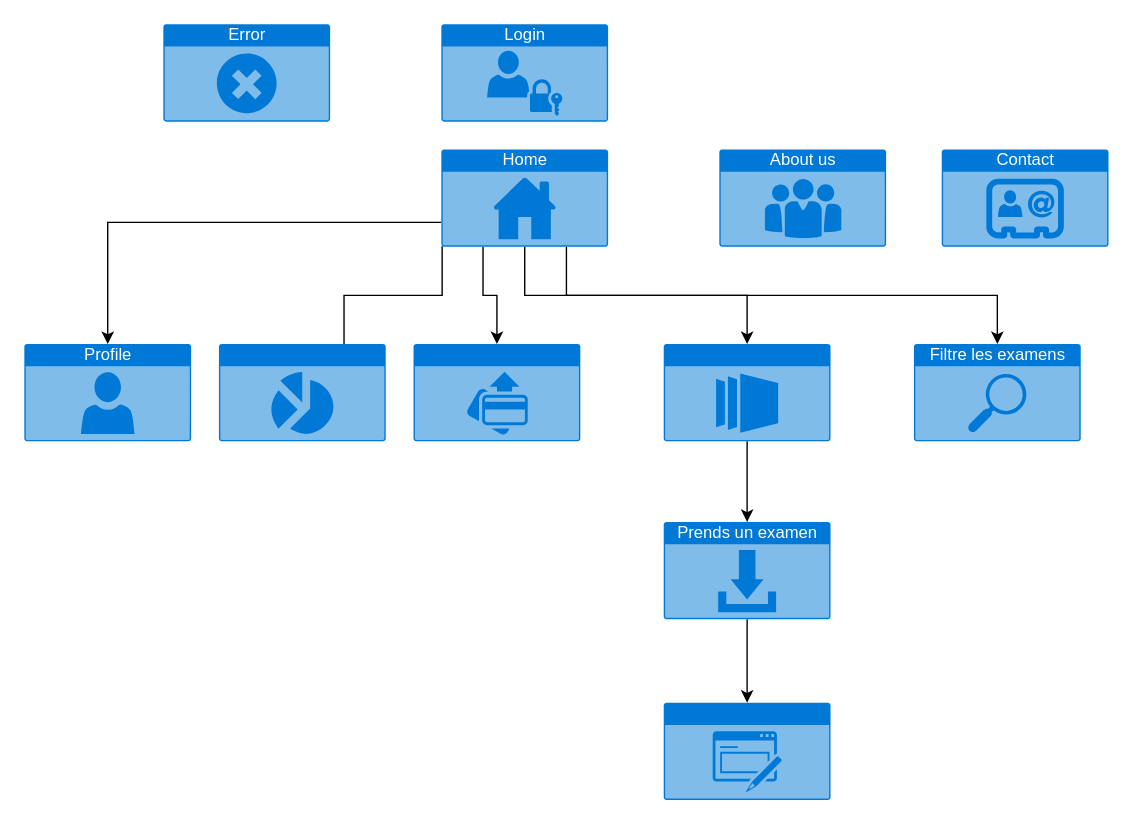
The diagram is 1131 pixels wide and 823 high, and some of its shapes have lost their labels. The shapes that lost their labels are listed below. From the top down, each one's centre as x and y in pixels, then its label:
At (x=301, y=392): "Stats des opérations".
At (x=496, y=392): "Ouvres mes factures".
At (x=746, y=392): "Examens".
At (x=746, y=750): "Valides l'examen".
